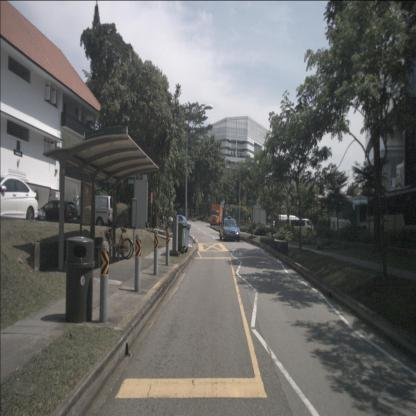vehicle-bus-rigid: (366, 185, 416, 249), (331, 200, 374, 243)
vehicle-car: (0, 176, 38, 222), (70, 195, 117, 228), (38, 200, 80, 226), (13, 197, 46, 222), (286, 219, 314, 240), (274, 215, 301, 236), (219, 216, 240, 241)
vehicle-truck: (210, 204, 224, 226)
